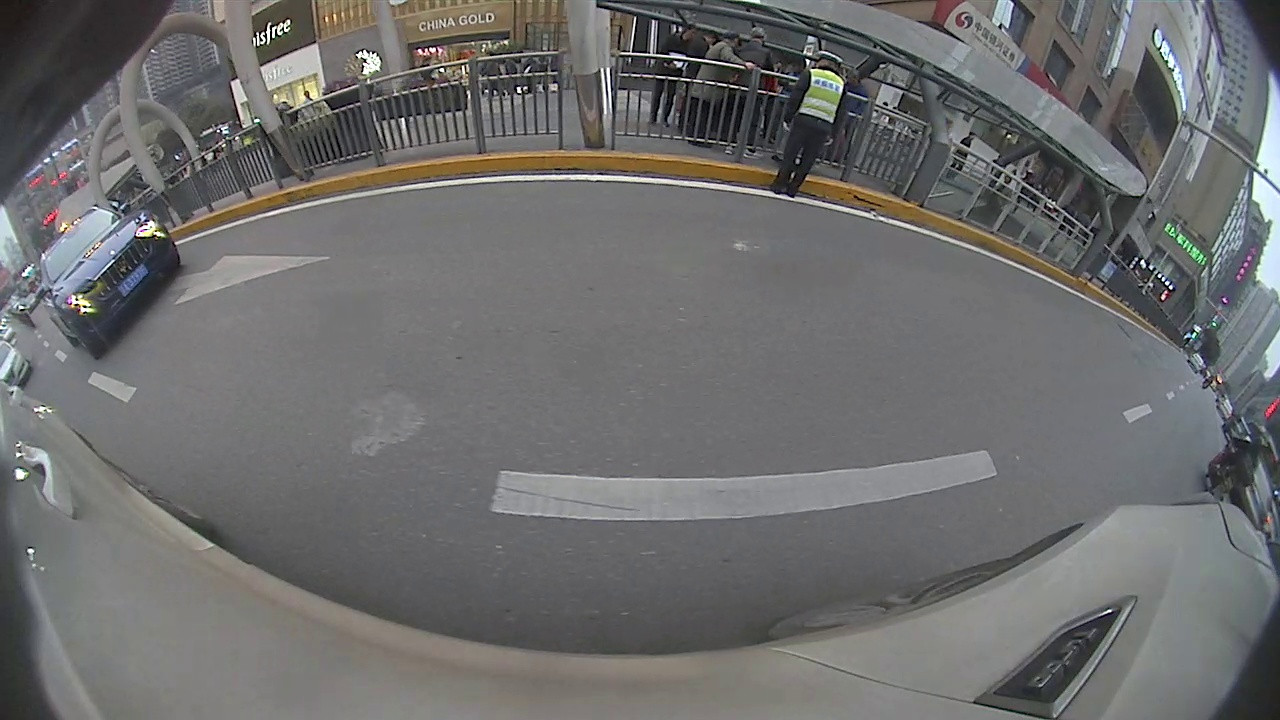car: (36, 205, 183, 362)
person: (767, 49, 850, 197)
